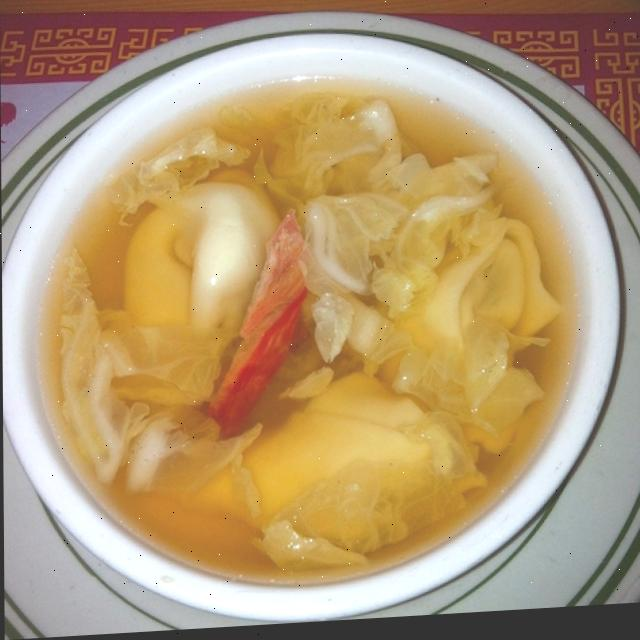汤锅炖物: (13, 10, 608, 639)
